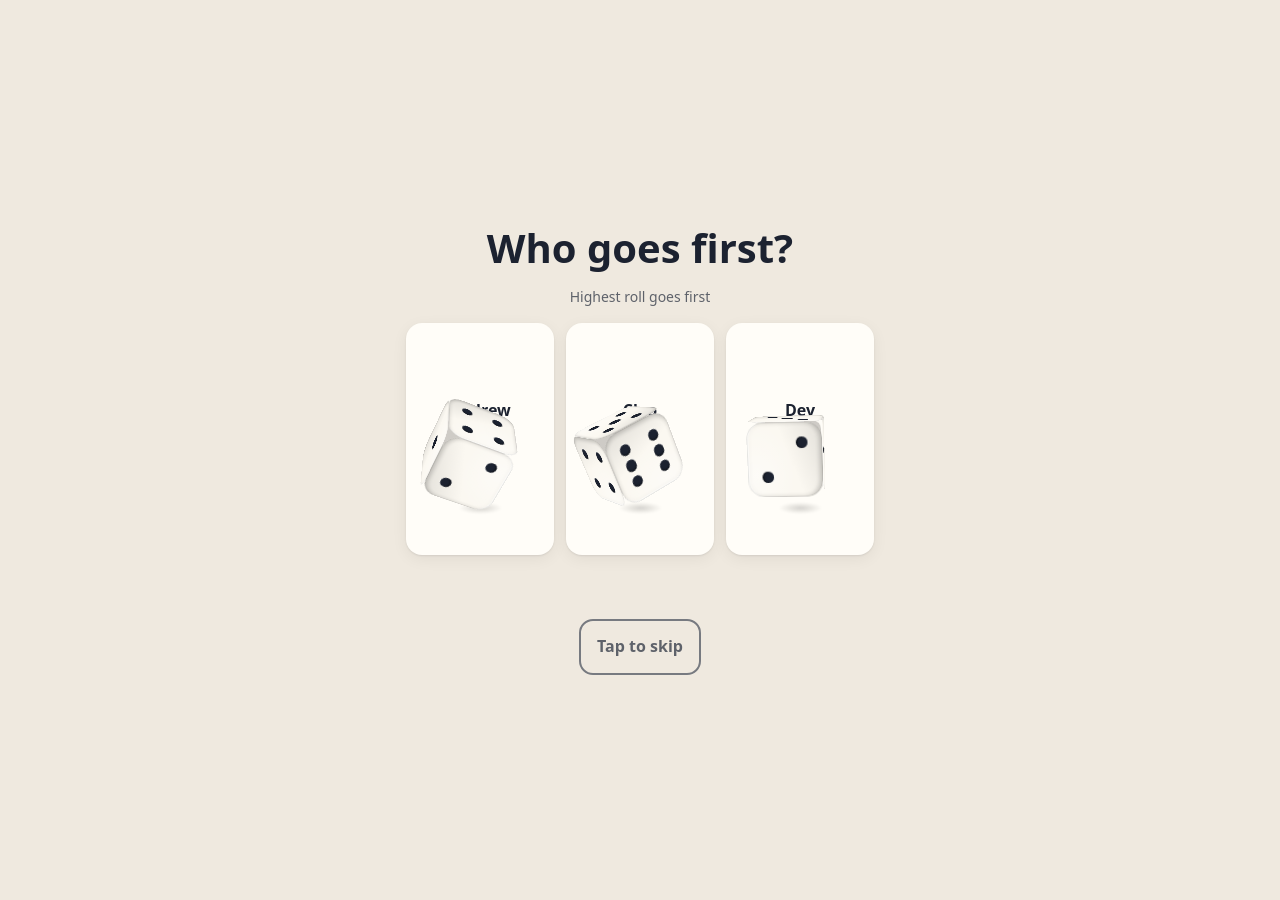
Test case: RollOff replay + result hold (D-L2) › tap skips the animation but not the result; 'You go first!' for me
Later steps or results of the test are not shown.
Click the element with test id "rolloff" at [77, 450], box [0,0,1279,899]
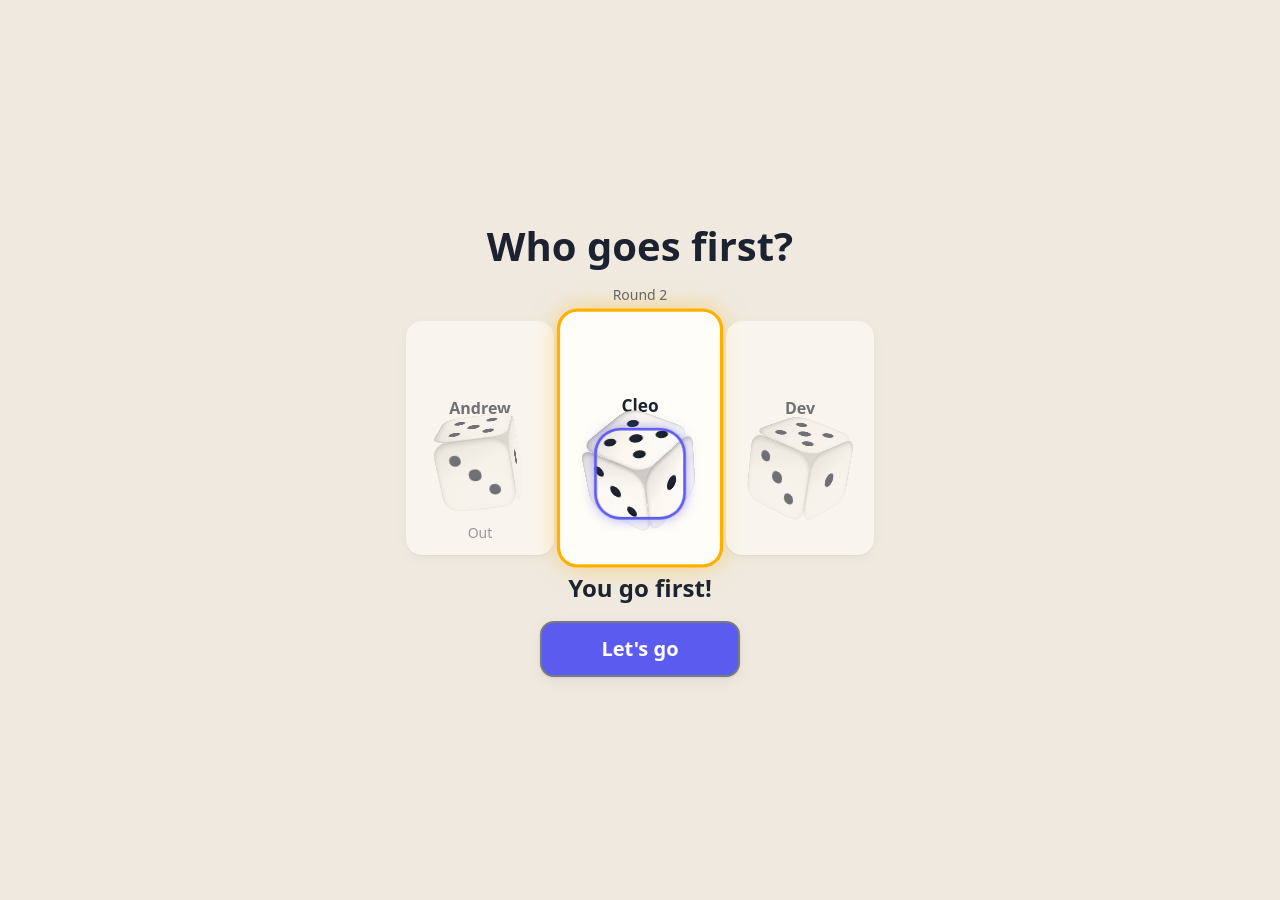
Expected: the message with test id "rolloff-caption" reads "You go first!", [568,571,712,604]
